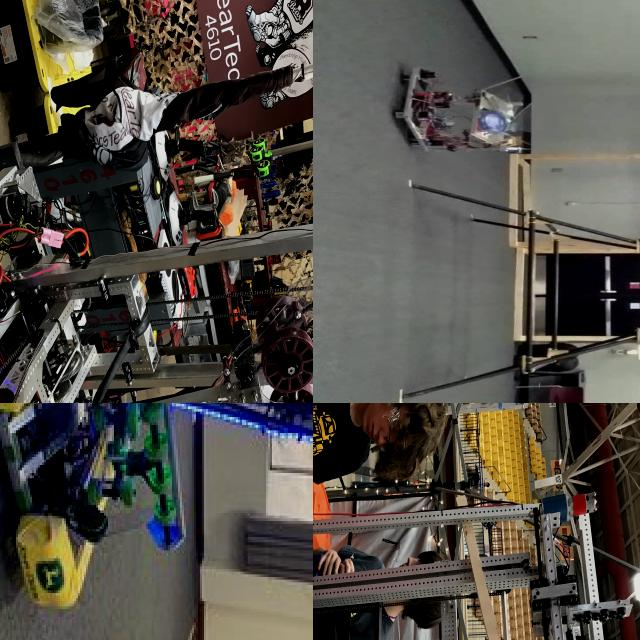FRC-Robots: (0, 52, 313, 403), (313, 403, 625, 640), (0, 403, 313, 619), (386, 56, 543, 162)
